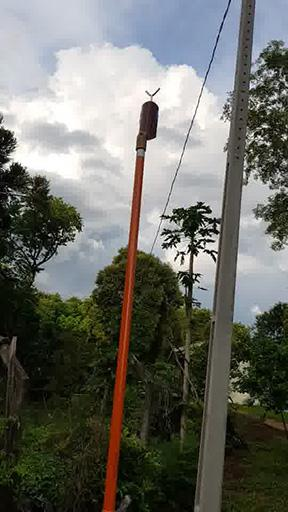Detector_Tensao_Contato: (138, 86, 161, 142)
Vara_Manobra: (104, 138, 145, 512)
